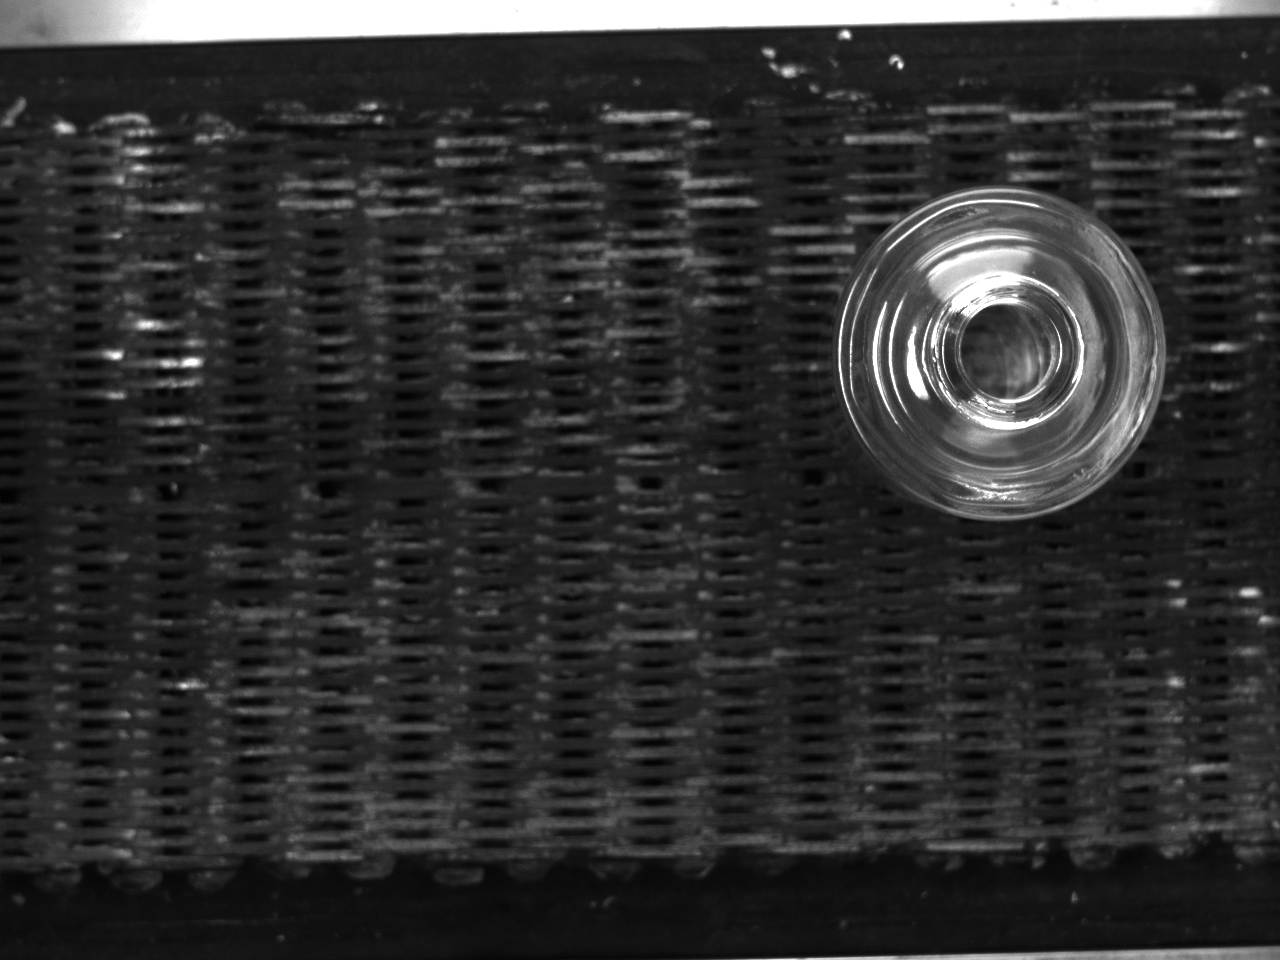bottleneck: (933, 273, 1086, 428)
